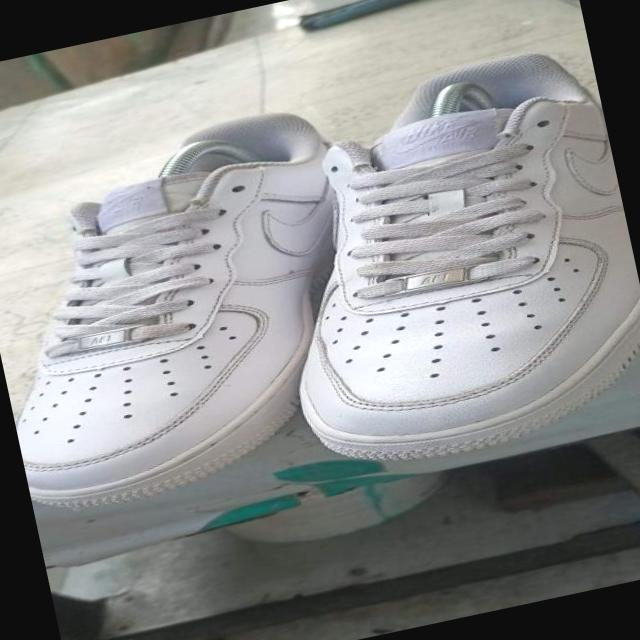nike_original_airforce: (231, 40, 640, 486), (0, 99, 399, 523)
